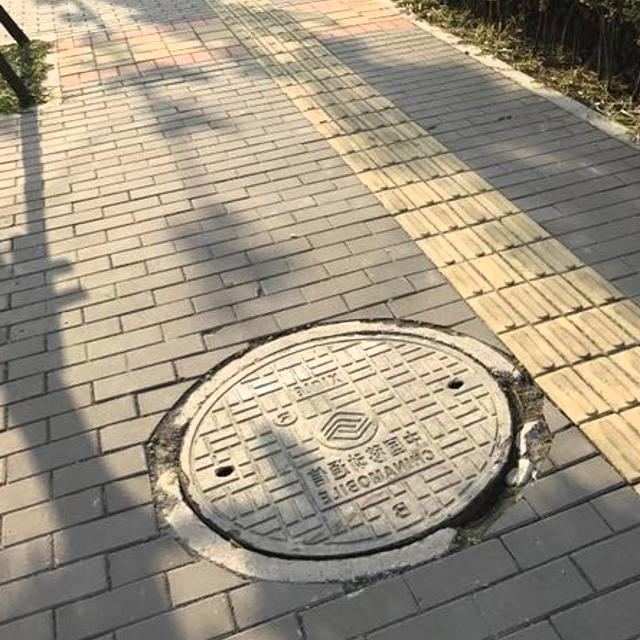circle: (142, 319, 550, 582)
